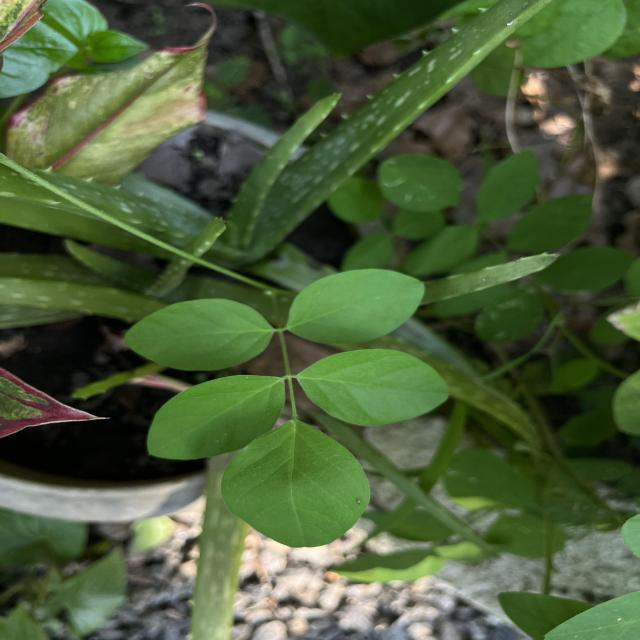Clitoria ternatea: (218, 418, 372, 548), (295, 346, 451, 428), (146, 374, 287, 462), (123, 297, 276, 372), (286, 268, 426, 346)
